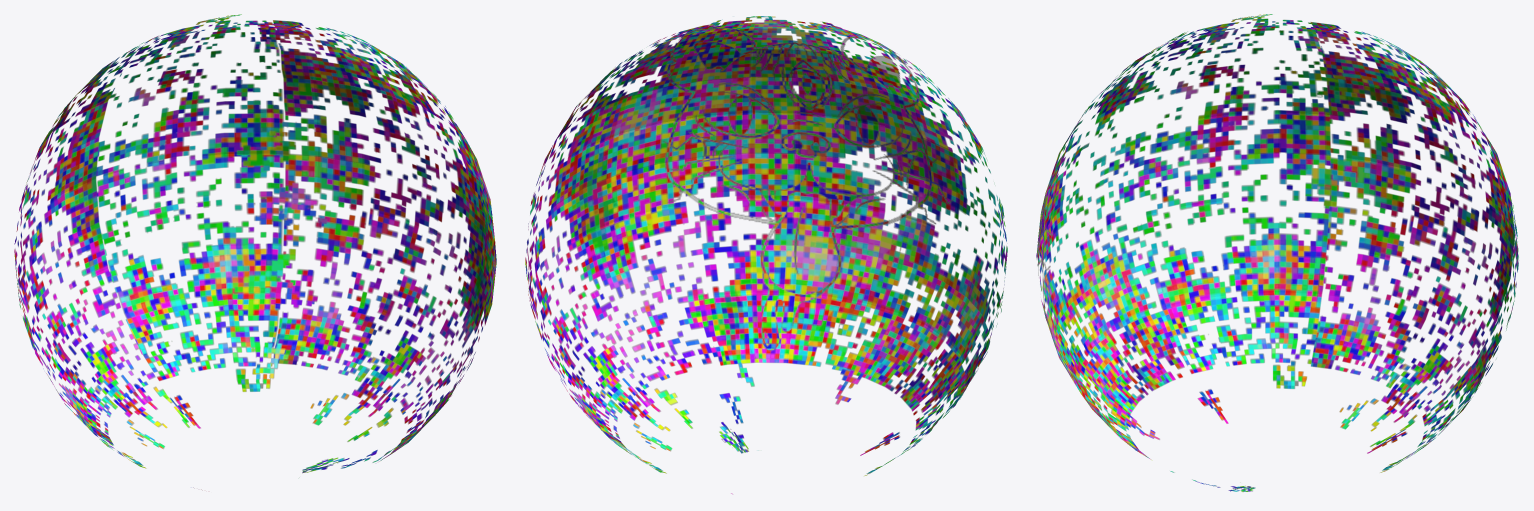
File: invertedsphere2.gltf
The picture shows the model from 3 angles, left to right: view 1: azimuth 30°, elevation 25°; view 2: azimuth 150°, elevation 25°; view 3: azimuth 270°, elevation 25°; orthographic projection.
Parts seen in each view (by area): view 1: Cube; view 2: Cube; view 3: Cube.
Boxes of the visible parts, bbox=[...] form: Cube: bbox=[14, 14, 496, 490]; Cube: bbox=[525, 16, 1007, 494]; Cube: bbox=[1036, 14, 1518, 491].
Size of the model in its own units: 2 by 1.96 by 2.
Materials: 1 (1 with a texture image).
